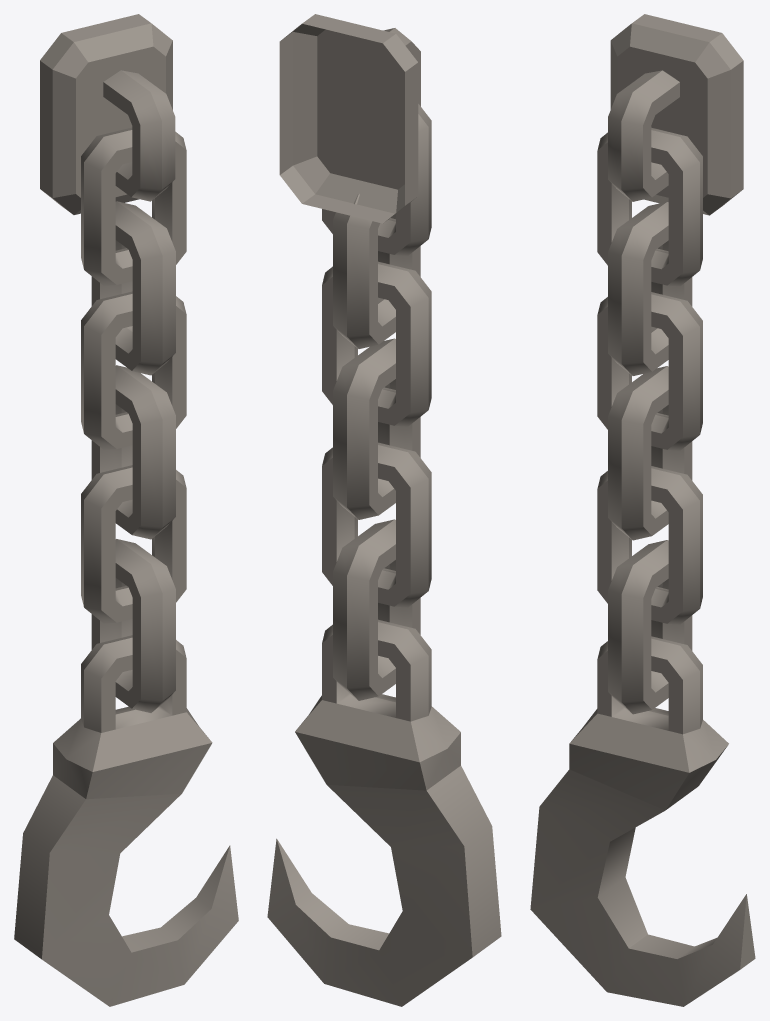
File: m_dec_dung_chainHook.fbx
3 views of the same model, side by side, from view 1: azimuth 30°, elevation 25°; view 2: azimuth 150°, elevation 25°; view 3: azimuth 330°, elevation 25° (orthographic). The views are drawn at different scales.
Visible parts, largest first — view 1: m_dec_dung_chainHook; view 2: m_dec_dung_chainHook; view 3: m_dec_dung_chainHook.
Boxes of the visible parts, x1,y1,x2,y2 form: m_dec_dung_chainHook: [14, 14, 238, 1006]; m_dec_dung_chainHook: [267, 14, 501, 1006]; m_dec_dung_chainHook: [530, 14, 755, 1006].
Size of the model in its own units: 0.9465 by 4.2 by 0.5015.
